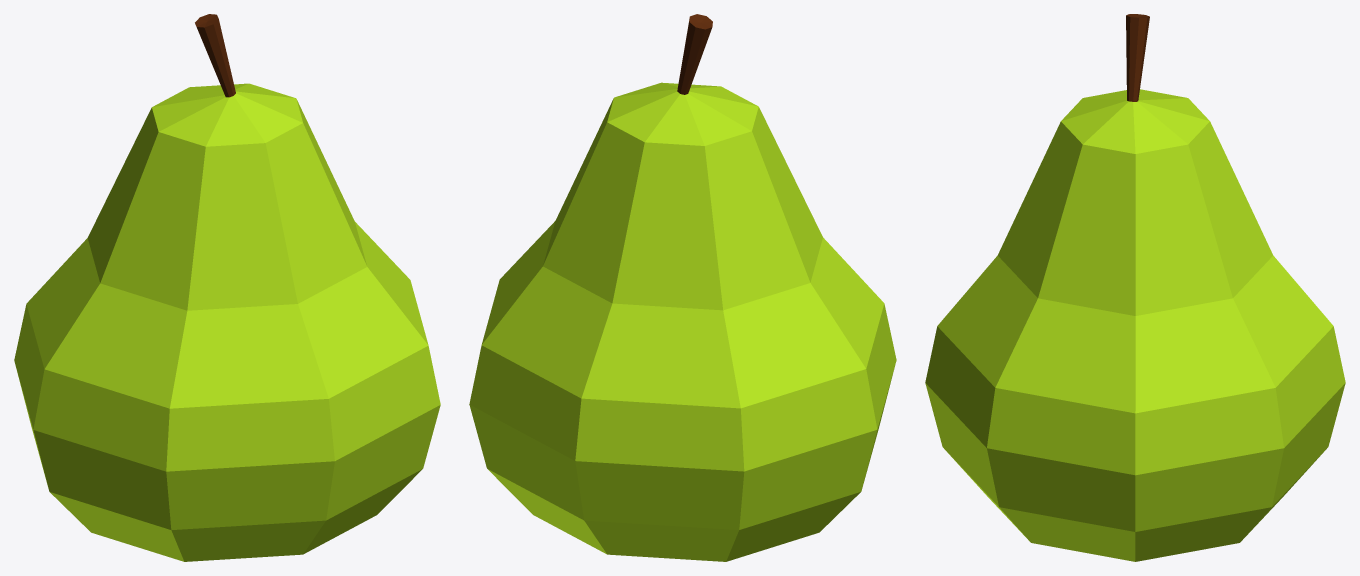
The model's file is Pear.fbx.
3 views of the same model, side by side, from view 1: azimuth 30°, elevation 25°; view 2: azimuth 150°, elevation 25°; view 3: azimuth 270°, elevation 25° (orthographic). The views are drawn at different scales.
Parts seen in each view (by area): view 1: Sphere; view 2: Sphere; view 3: Sphere.
Part boxes in pixels (<box>): Sphere: <box>14,14,440,561</box>; Sphere: <box>469,14,896,561</box>; Sphere: <box>925,14,1345,561</box>.
Bounding box in the file's own units: 178 × 224 × 171.
1 material, 1 textured.
